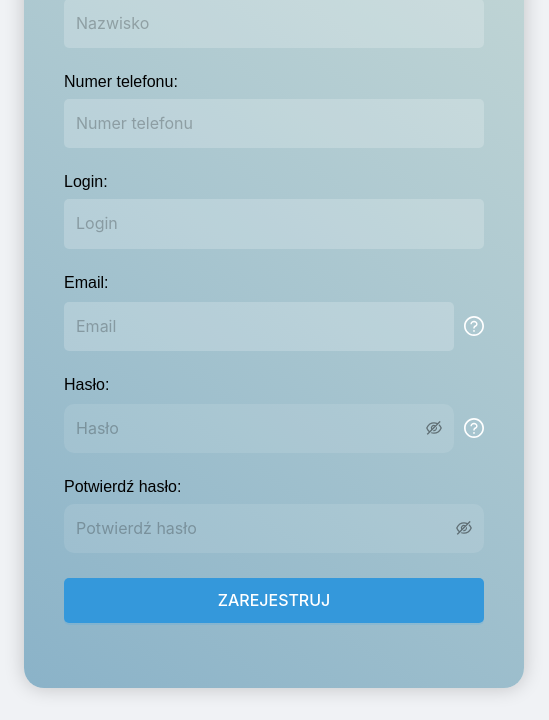
Test: Register Component › displays error messages when required fields are empty
The image size is (549, 720).
(page scrolled)
Click the button "Zarejestruj" at (274, 600), box [64, 578, 484, 623]
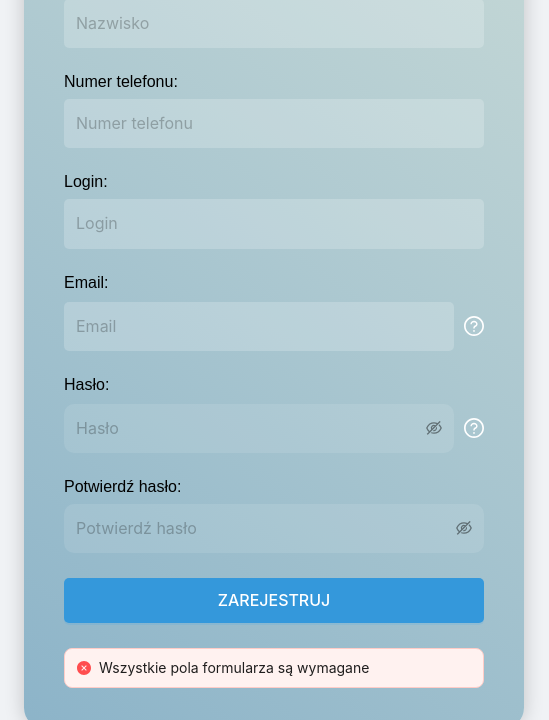
Check: the text "Wszystkie pola formularza są wymagane" is shown, box [99, 659, 369, 676]
